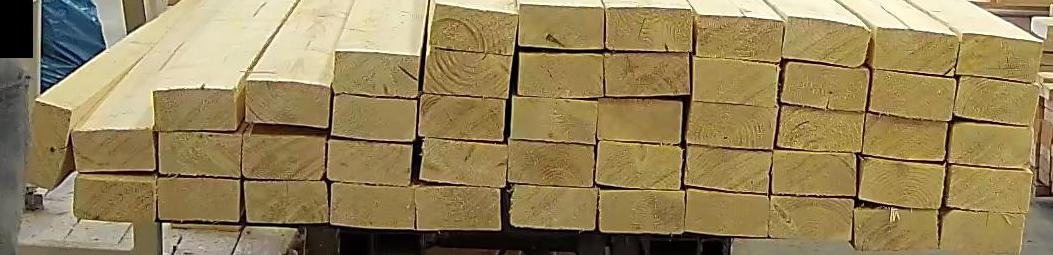Wood-Plank: (429, 0, 523, 53), (19, 98, 74, 188), (958, 31, 1045, 87), (423, 45, 512, 98), (781, 60, 870, 111), (871, 69, 958, 119), (694, 56, 781, 106), (420, 137, 507, 187), (786, 15, 868, 68), (687, 100, 777, 148), (598, 139, 684, 189), (862, 156, 946, 207), (946, 165, 1035, 213), (509, 138, 595, 187), (687, 144, 773, 192), (245, 80, 331, 128), (778, 104, 865, 151), (520, 0, 605, 48), (419, 92, 504, 140), (331, 93, 416, 141), (512, 96, 598, 143), (874, 28, 960, 75), (958, 75, 1040, 124), (688, 188, 771, 236), (331, 181, 414, 229), (73, 174, 156, 222), (157, 129, 240, 177), (415, 184, 501, 230), (328, 138, 412, 185), (510, 185, 599, 229), (608, 8, 696, 52), (864, 114, 948, 160), (157, 176, 241, 222), (950, 121, 1033, 167), (605, 52, 691, 96), (242, 134, 328, 178), (599, 97, 683, 142), (72, 128, 154, 174), (855, 205, 940, 249), (519, 53, 604, 97), (943, 208, 1026, 253), (774, 150, 857, 195), (243, 180, 329, 223), (698, 16, 780, 61), (600, 190, 685, 233), (151, 91, 237, 133), (772, 197, 856, 239), (337, 51, 417, 95)
